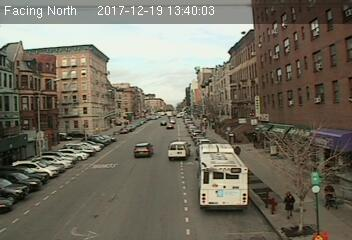bus: (196, 144, 249, 210)
car: (134, 143, 153, 157)
truck: (167, 141, 189, 159)
